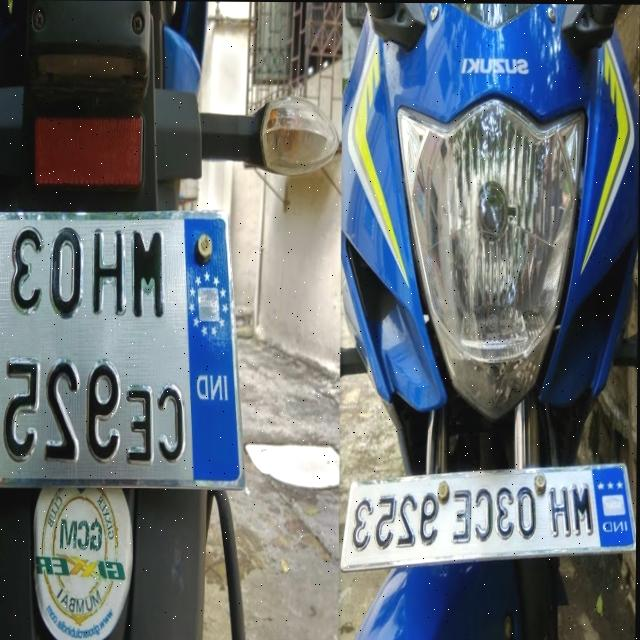plate: (0, 198, 248, 502), (340, 460, 637, 590)
